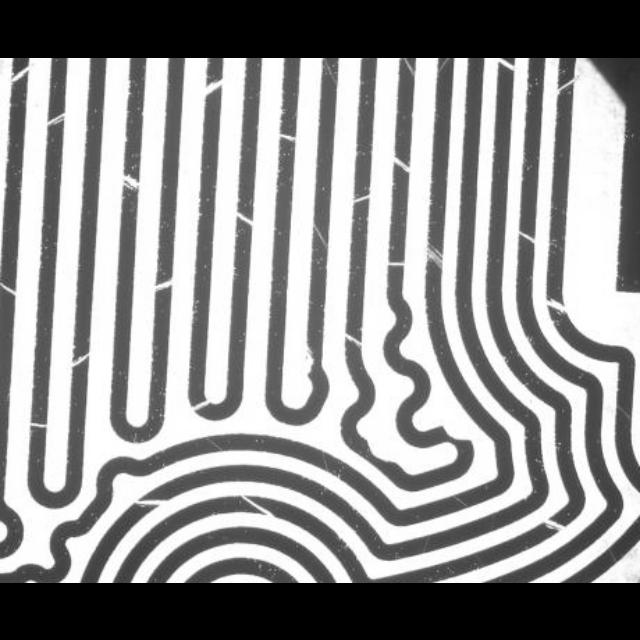break: (224, 488, 284, 526), (419, 239, 456, 285), (194, 69, 236, 105), (172, 393, 228, 419), (113, 162, 149, 200), (541, 502, 573, 544), (227, 198, 260, 238), (145, 271, 181, 305), (314, 58, 348, 94), (270, 118, 304, 152), (541, 287, 573, 323), (335, 320, 367, 356), (511, 212, 535, 255), (308, 212, 332, 255), (6, 57, 38, 89), (375, 250, 409, 280), (132, 493, 178, 515), (551, 70, 589, 94), (384, 144, 414, 174), (348, 182, 376, 214), (28, 408, 52, 444), (38, 111, 74, 133), (613, 392, 635, 428), (487, 58, 519, 80), (604, 536, 624, 570), (68, 344, 90, 374), (315, 444, 335, 476), (0, 270, 18, 304), (418, 530, 438, 560), (451, 487, 473, 513), (202, 434, 222, 458), (130, 420, 144, 450), (396, 57, 416, 77), (432, 58, 458, 70)
over-etching: (428, 413, 478, 451), (360, 428, 396, 470), (302, 339, 324, 385)
